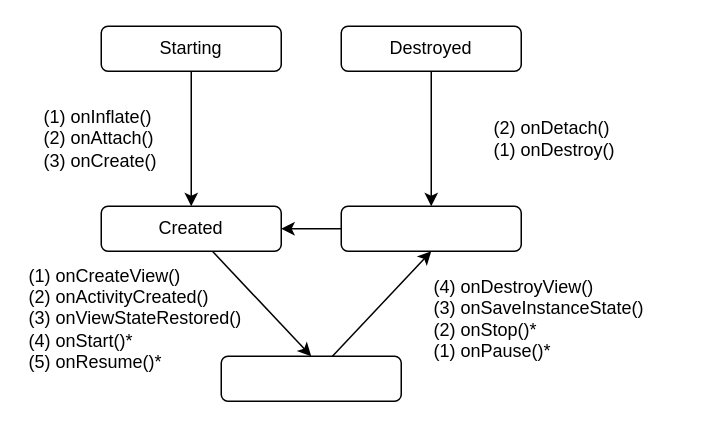
Some shapes in this 711 by 428 pixel diagram are drawn without their labels. The centre of each missing label's shape, as x and y in pixels:
"Active" belongs at point (310, 378).
"Inactive" belongs at point (430, 228).
